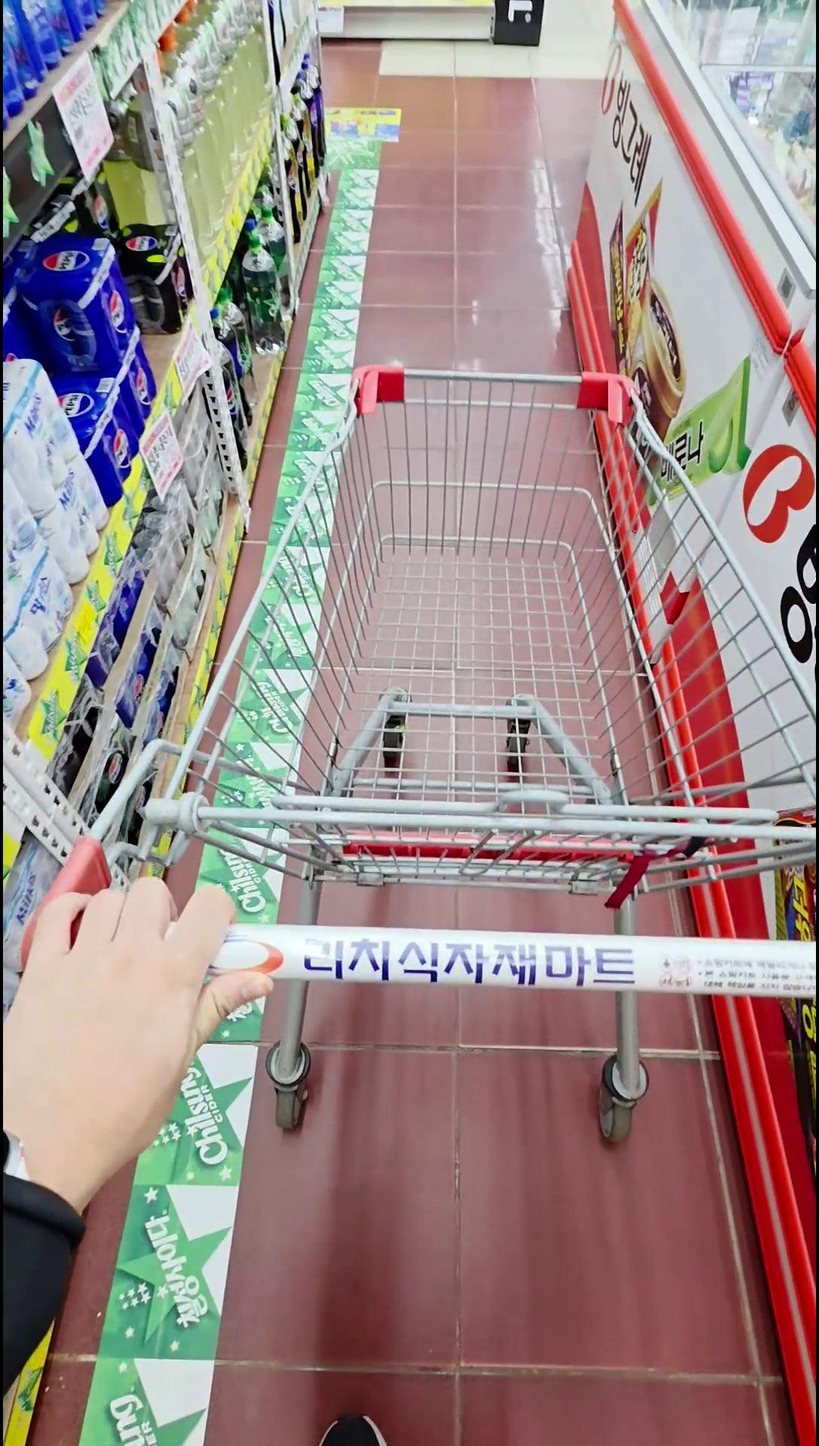empty_cart: (8, 338, 819, 1266)
